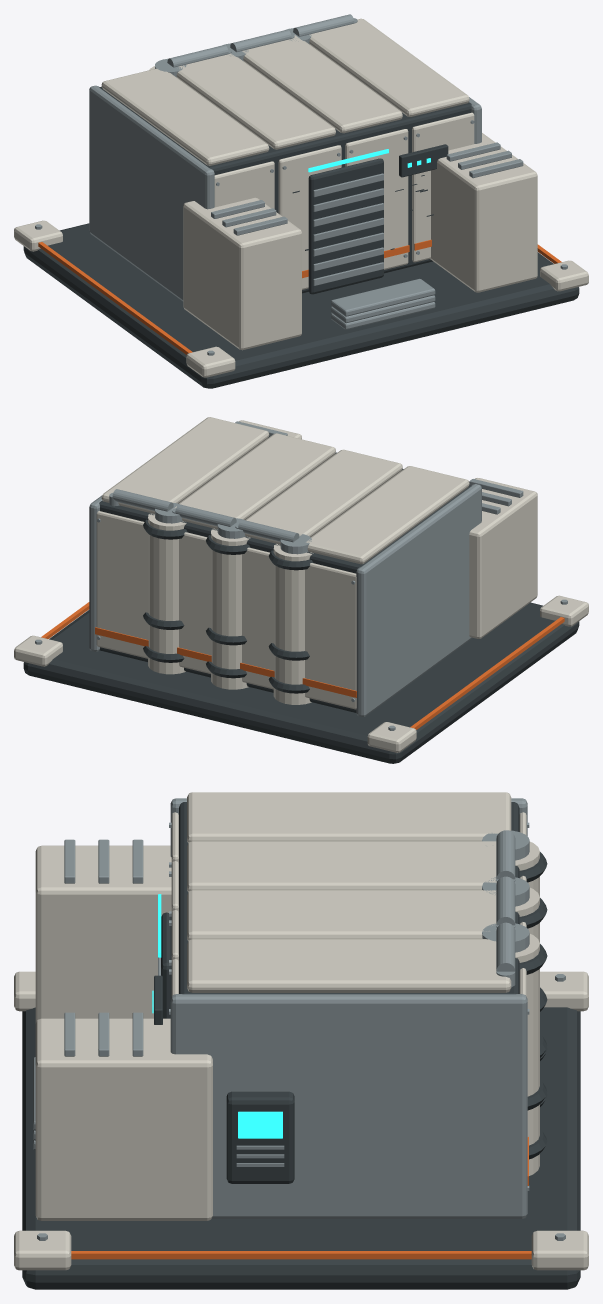
Rendered from SM_BatteryFactory_Body.fbx.
3 renders of one model, top to bottom at view 1: azimuth 30°, elevation 25°; view 2: azimuth 150°, elevation 25°; view 3: azimuth 270°, elevation 25°, orthographic. The views are drawn at different scales.
Visible parts, largest first — view 1: SM_BatteryFactory_Body; view 2: SM_BatteryFactory_Body; view 3: SM_BatteryFactory_Body.
Boxes of the visible parts, x1=… form: SM_BatteryFactory_Body: x1=14, y1=14, x2=588, y2=388; SM_BatteryFactory_Body: x1=14, y1=417, x2=588, y2=763; SM_BatteryFactory_Body: x1=14, y1=792, x2=588, y2=1289.
Bounding box in the file's own units: 492 × 422 × 227.
